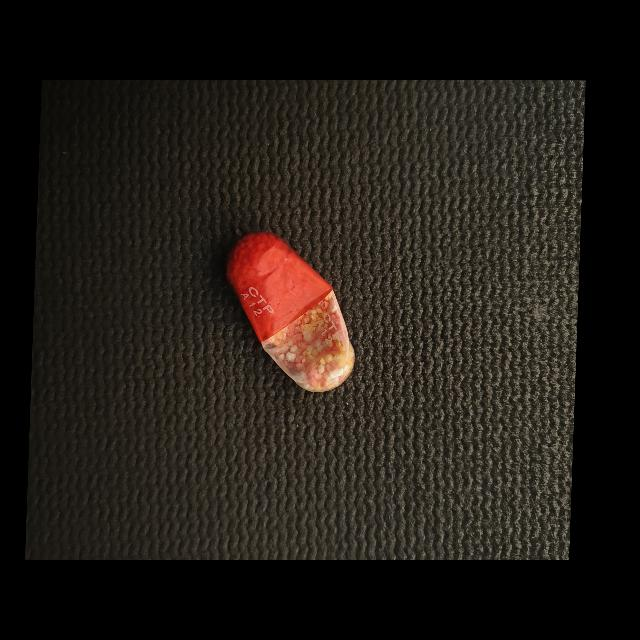Defective Capsule: (226, 232, 355, 392)
